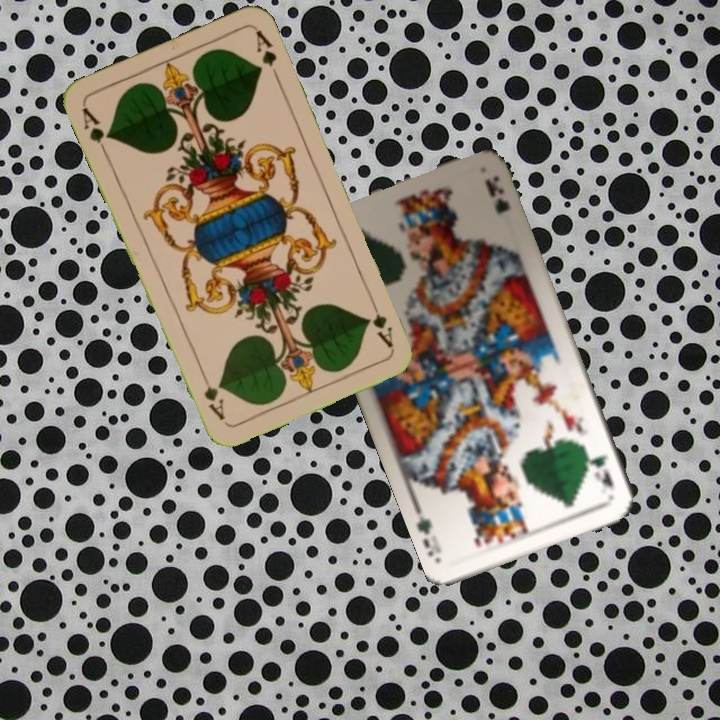GA: (77, 103, 114, 159), (366, 294, 396, 351)
GK: (587, 450, 617, 494)
